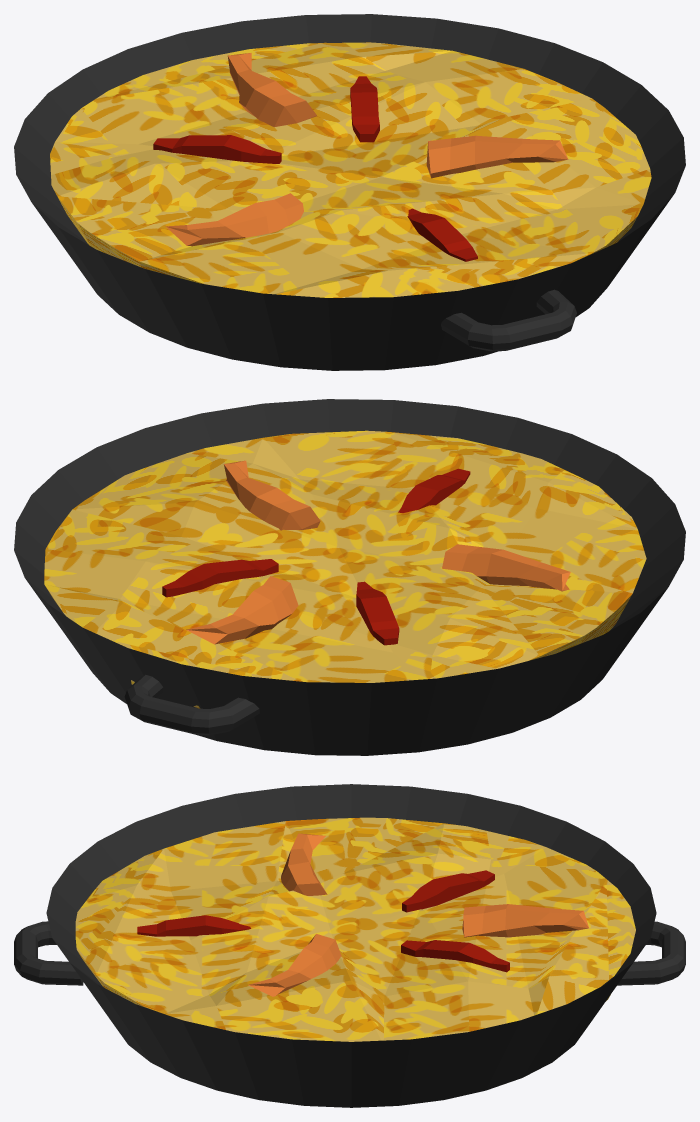
Rendered from food.fbx.
3 views of the same model, one above another, from view 1: azimuth 30°, elevation 25°; view 2: azimuth 150°, elevation 25°; view 3: azimuth 270°, elevation 25° (orthographic). The views are drawn at different scales.
Parts seen in each view (by area): view 1: rice, pan, handle.001, shrip3, shrip1, shrip2, Cube.001, Cube, Cube.002; view 2: rice, pan, handle, shrip1, shrip2, shrip3, Cube.002, Cube.001, Cube; view 3: rice, pan, shrip2, handle.001, handle, shrip3, Cube.001, Cube.002, shrip1, Cube.
Boxes of the visible parts, left/top/right/bottom form: rice: left=50, top=42, right=651, bottom=297; pan: left=14, top=14, right=685, bottom=370; handle.001: left=441, top=289, right=576, bottom=351; shrip3: left=426, top=135, right=568, bottom=178; shrip1: left=165, top=193, right=303, bottom=246; shrip2: left=227, top=53, right=316, bottom=127; Cube.001: left=153, top=135, right=281, bottom=163; Cube: left=407, top=208, right=477, bottom=261; Cube.002: left=350, top=76, right=379, bottom=142; rice: left=44, top=430, right=646, bottom=708; pan: left=14, top=399, right=685, bottom=755; handle: left=124, top=675, right=259, bottom=735; shrip1: left=442, top=544, right=570, bottom=591; shrip2: left=186, top=576, right=298, bottom=644; shrip3: left=224, top=460, right=320, bottom=530; Cube.002: left=162, top=559, right=278, bottom=597; Cube.001: left=356, top=581, right=399, bottom=645; Cube: left=398, top=468, right=470, bottom=512; rice: left=75, top=817, right=635, bottom=1041; pan: left=46, top=784, right=656, bottom=1107; shrip2: left=462, top=904, right=588, bottom=937; handle.001: left=14, top=921, right=83, bottom=985; handle: left=617, top=921, right=685, bottom=985; shrip3: left=248, top=934, right=341, bottom=996; Cube.001: left=402, top=870, right=494, bottom=912; Cube.002: left=401, top=940, right=509, bottom=972; shrip1: left=281, top=833, right=327, bottom=895; Cube: left=137, top=915, right=250, bottom=936.
Bounding box in the file's own units: 252 × 46.44 × 278.
4 materials, 1 textured.
